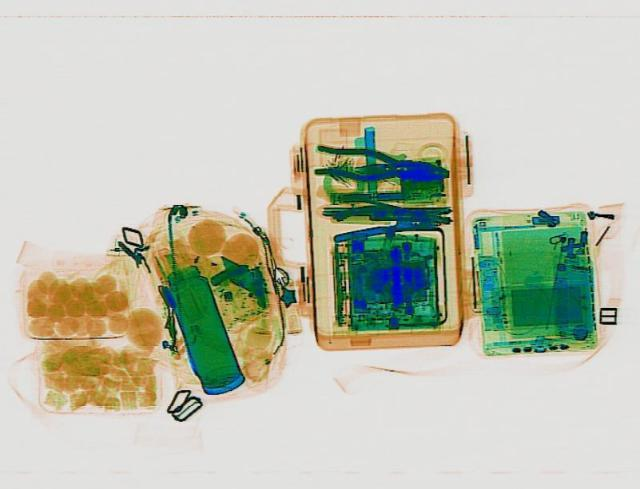Pliers: (310, 142, 452, 188)
